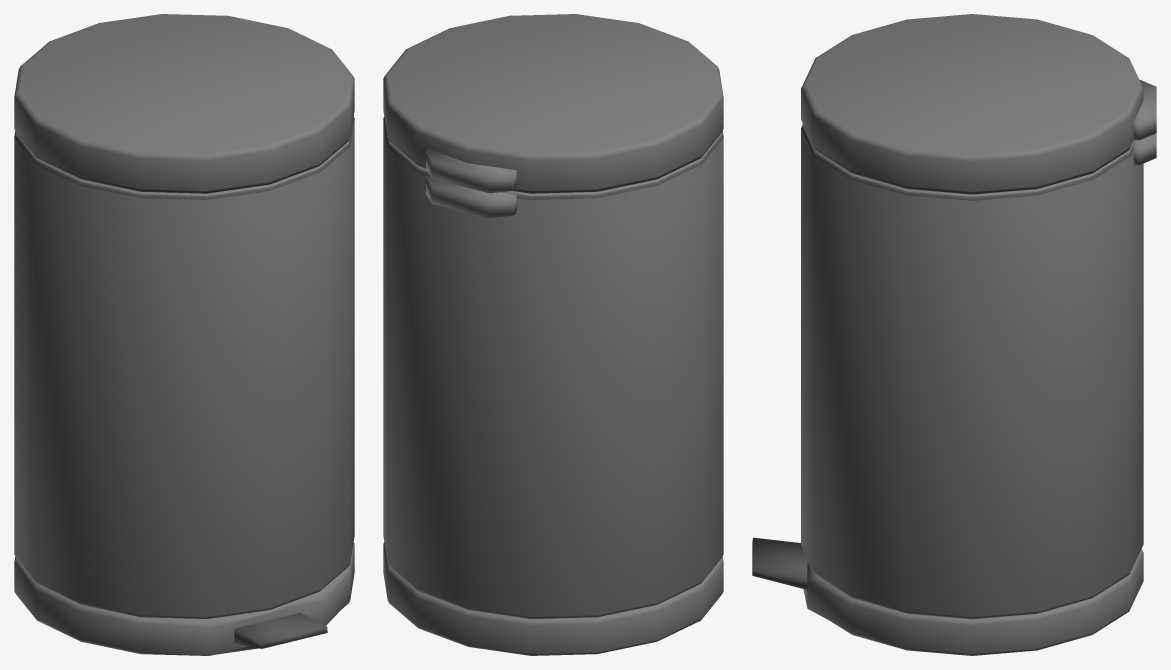
File: TrashCan.fbx
3 renders of one model, left to right at view 1: azimuth 30°, elevation 25°; view 2: azimuth 150°, elevation 25°; view 3: azimuth 270°, elevation 25°, orthographic.
Visible parts, largest first — view 1: Prop_TrashCan_03; view 2: Prop_TrashCan_03; view 3: Prop_TrashCan_03.
Part boxes in pixels (left/top/right/bottom): Prop_TrashCan_03: left=14, top=14, right=354, bottom=655; Prop_TrashCan_03: left=383, top=14, right=723, bottom=655; Prop_TrashCan_03: left=752, top=14, right=1156, bottom=655.
Size of the model in its own units: 30.38 by 48.99 by 35.85.
Materials: 1 (1 with a texture image).
